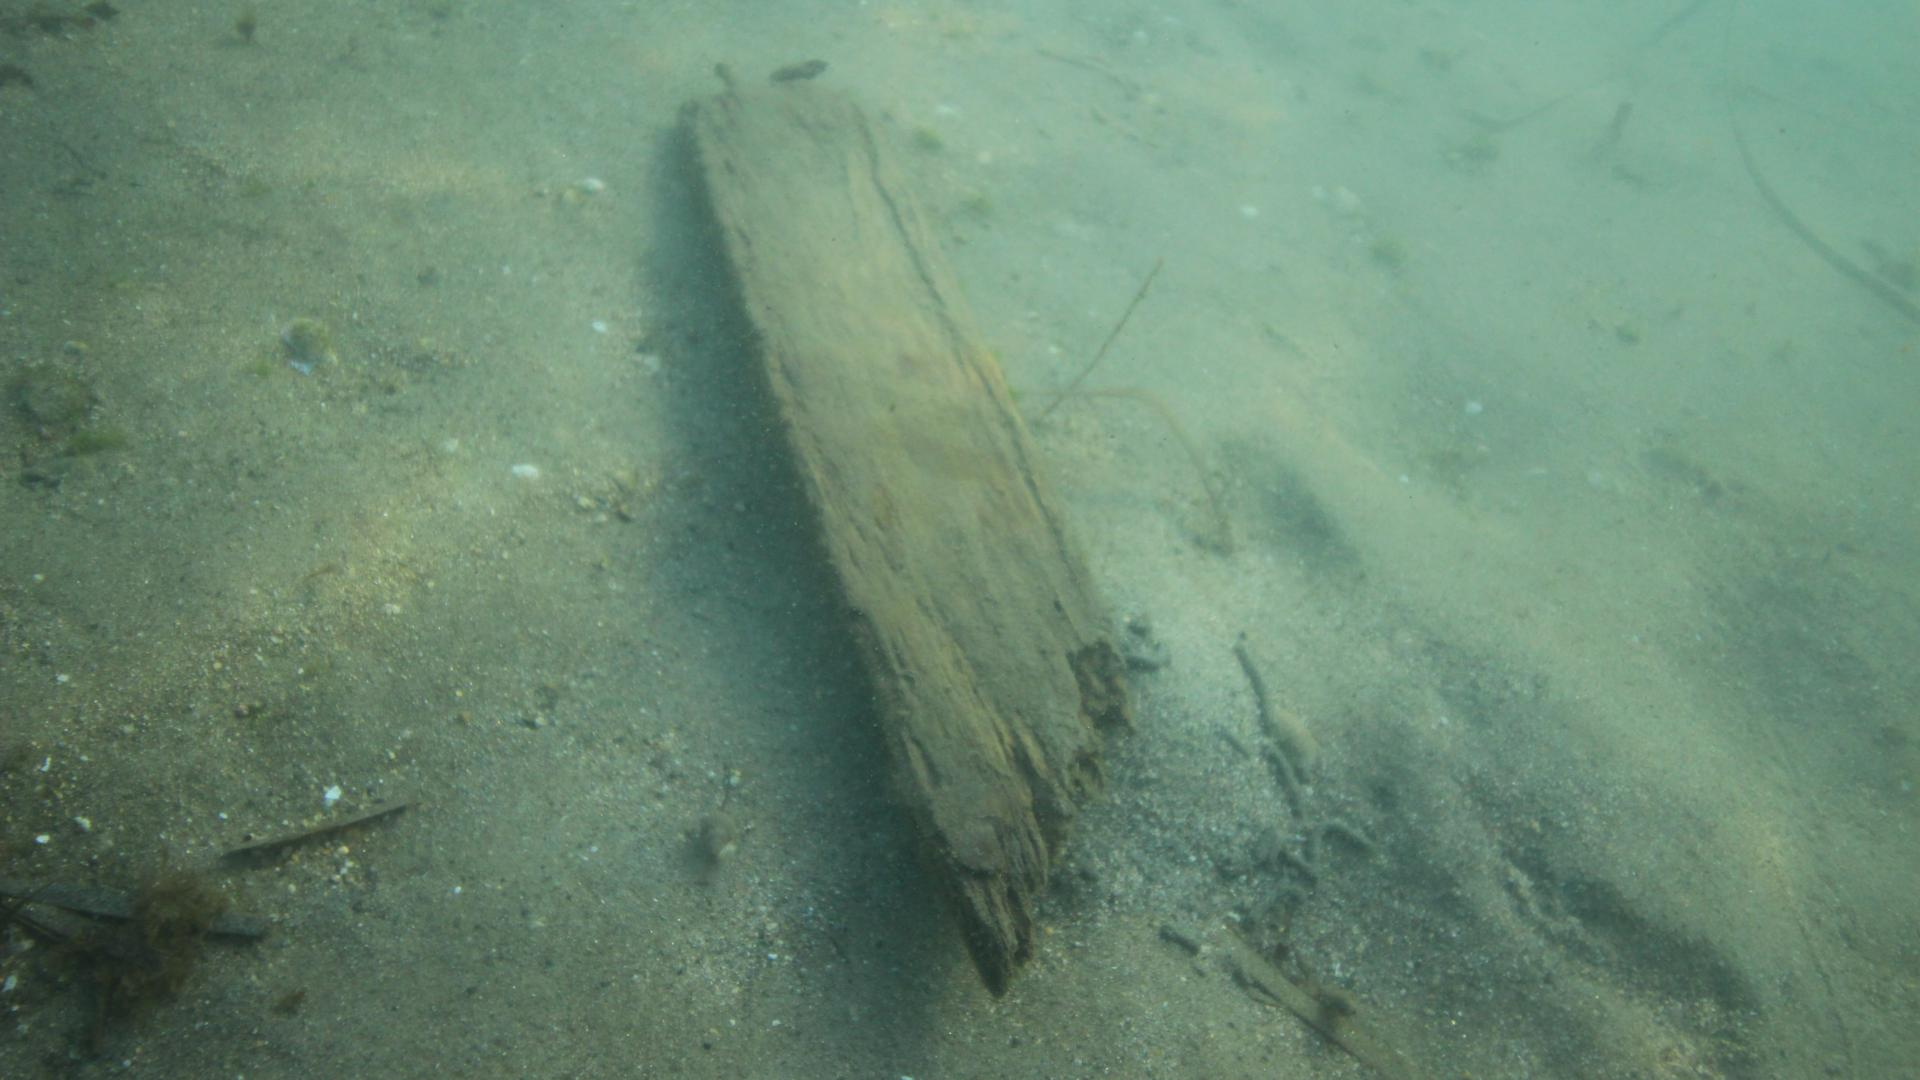wood: (673, 79, 1138, 1000)
